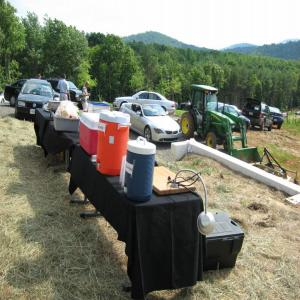Vehicle-registration-plate: (31, 110, 36, 116), (249, 113, 254, 116)
